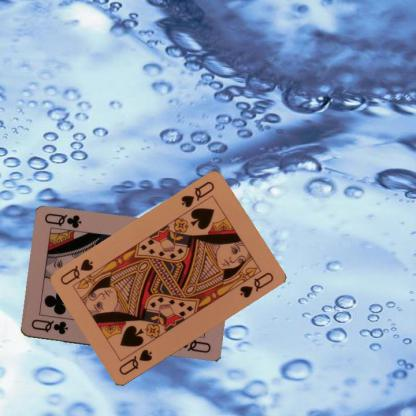Qc: (28, 316, 69, 336)
Qs: (178, 178, 215, 210), (116, 346, 154, 376)
